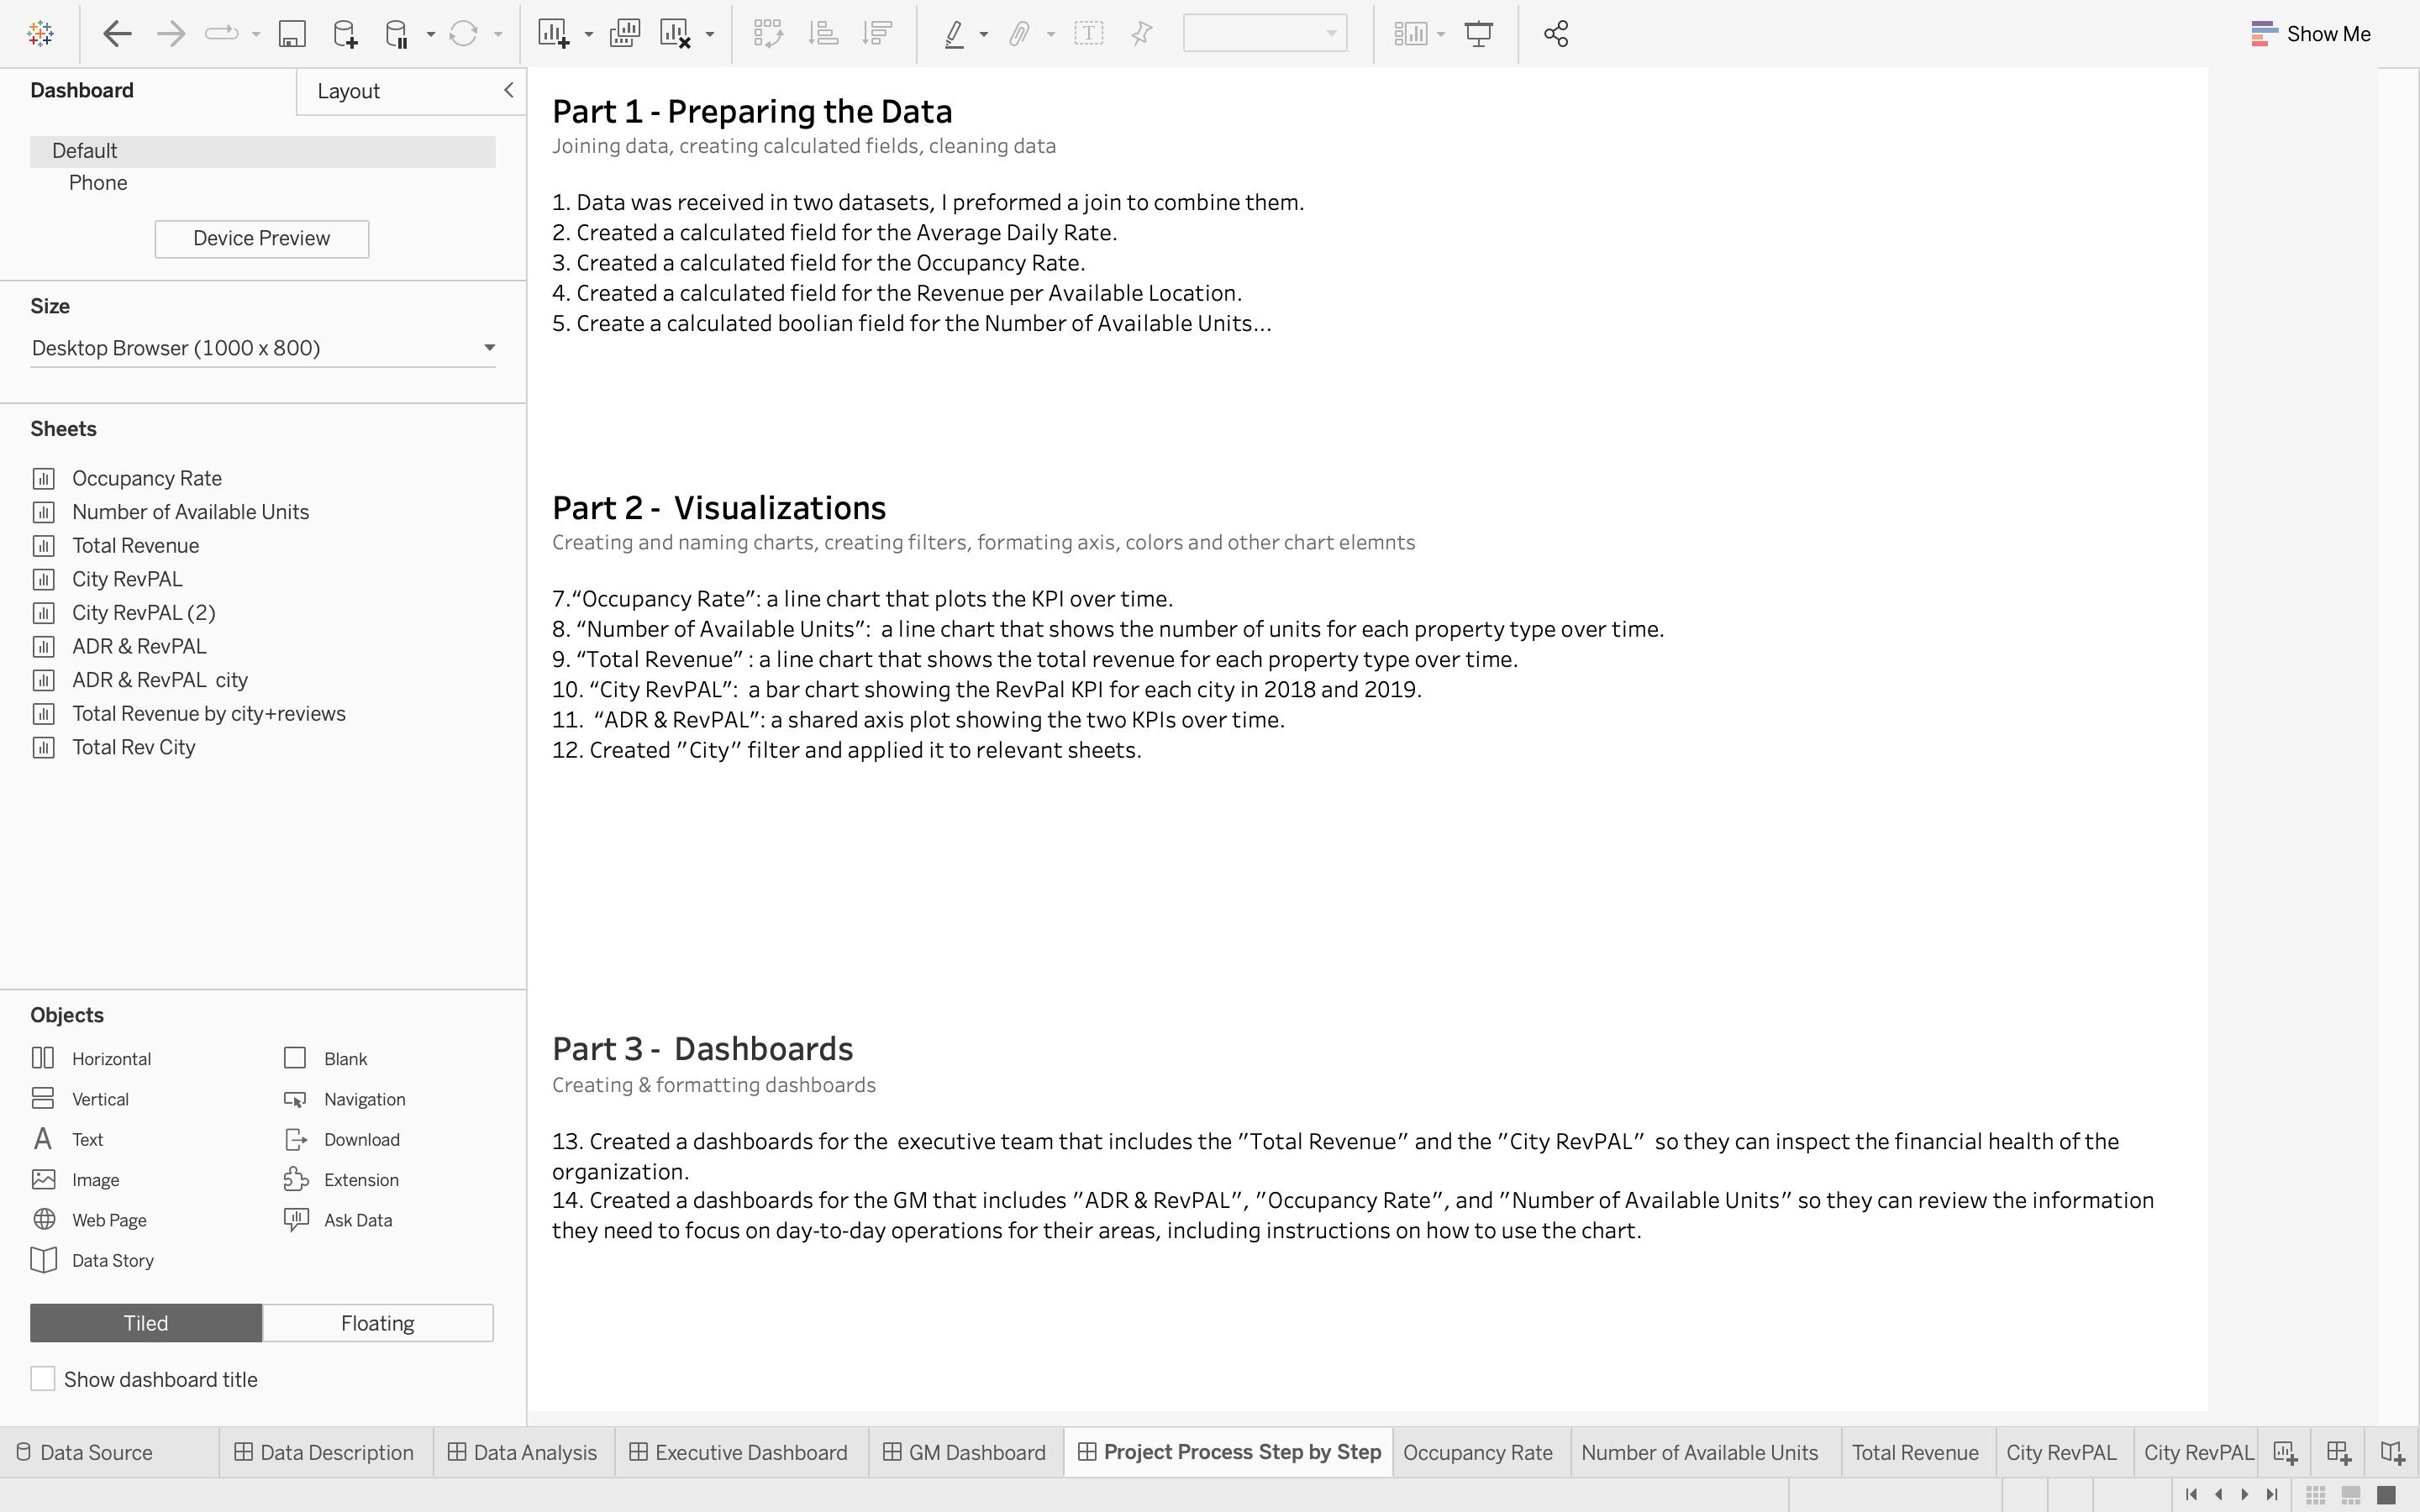

This screenshot's page, from the dashboard's own definition file:
{"tool":"tableau","page":{"name":"Project Process Step by Step","canvas":[1000,800],"ordinal":4},"visuals":[{"type":"text","box":[8,8,984,158.5]},{"type":"text","box":[8,166.5,984,331.5]},{"type":"text","box":[8,498,984,294]}]}

Visuals, with their boxes on the page's 1000x800 design canvas (x1, y1, x2, y2). These are canvas units, not pixel positions in the 2420x1512 screenshot, which may show the page scaled, cropped or inside an application window:
text: rect(8, 8, 992, 166)
text: rect(8, 166, 992, 498)
text: rect(8, 498, 992, 792)
